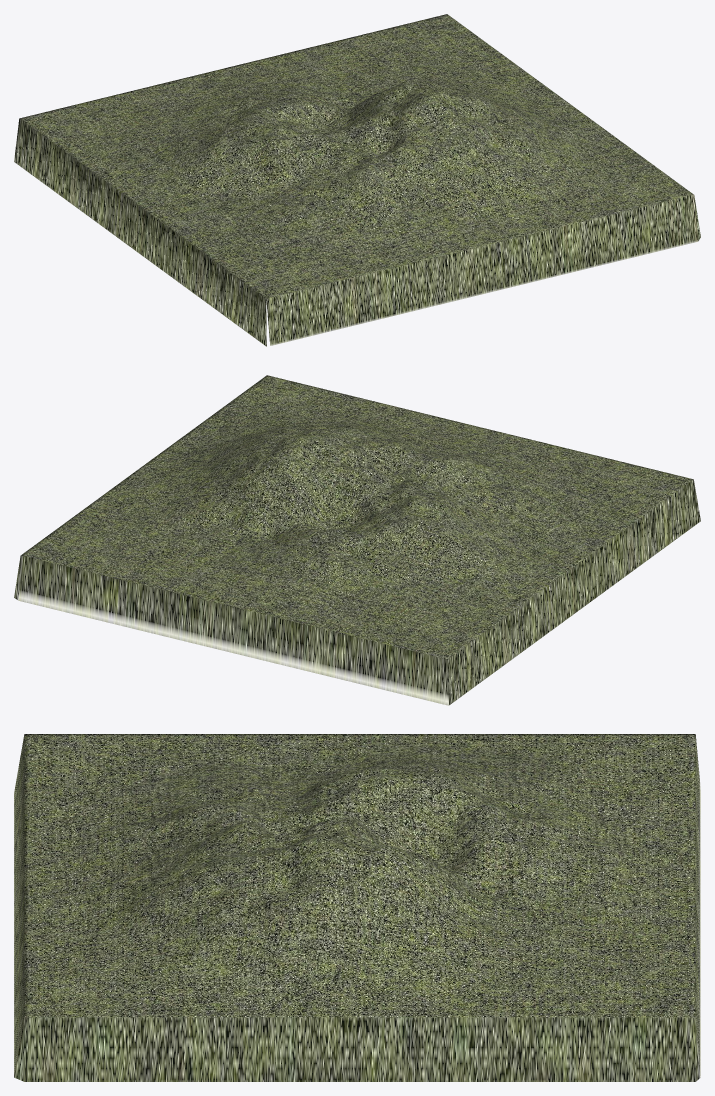
Rendered from vue_test_export_maya.gltf.
3 views of the same model, one above another, from view 1: azimuth 30°, elevation 25°; view 2: azimuth 150°, elevation 25°; view 3: azimuth 270°, elevation 25° (orthographic). The views are drawn at different scales.
Parts seen in each view (by area): view 1: Procedural_terrain; view 2: Procedural_terrain; view 3: Procedural_terrain.
Part boxes in pixels (left/top/right/bottom): Procedural_terrain: left=14, top=14, right=700, bottom=346; Procedural_terrain: left=14, top=375, right=700, bottom=705; Procedural_terrain: left=14, top=734, right=700, bottom=1081.
Size of the model in its own units: 1000 by 217 by 1000.
1 material, 1 textured.
